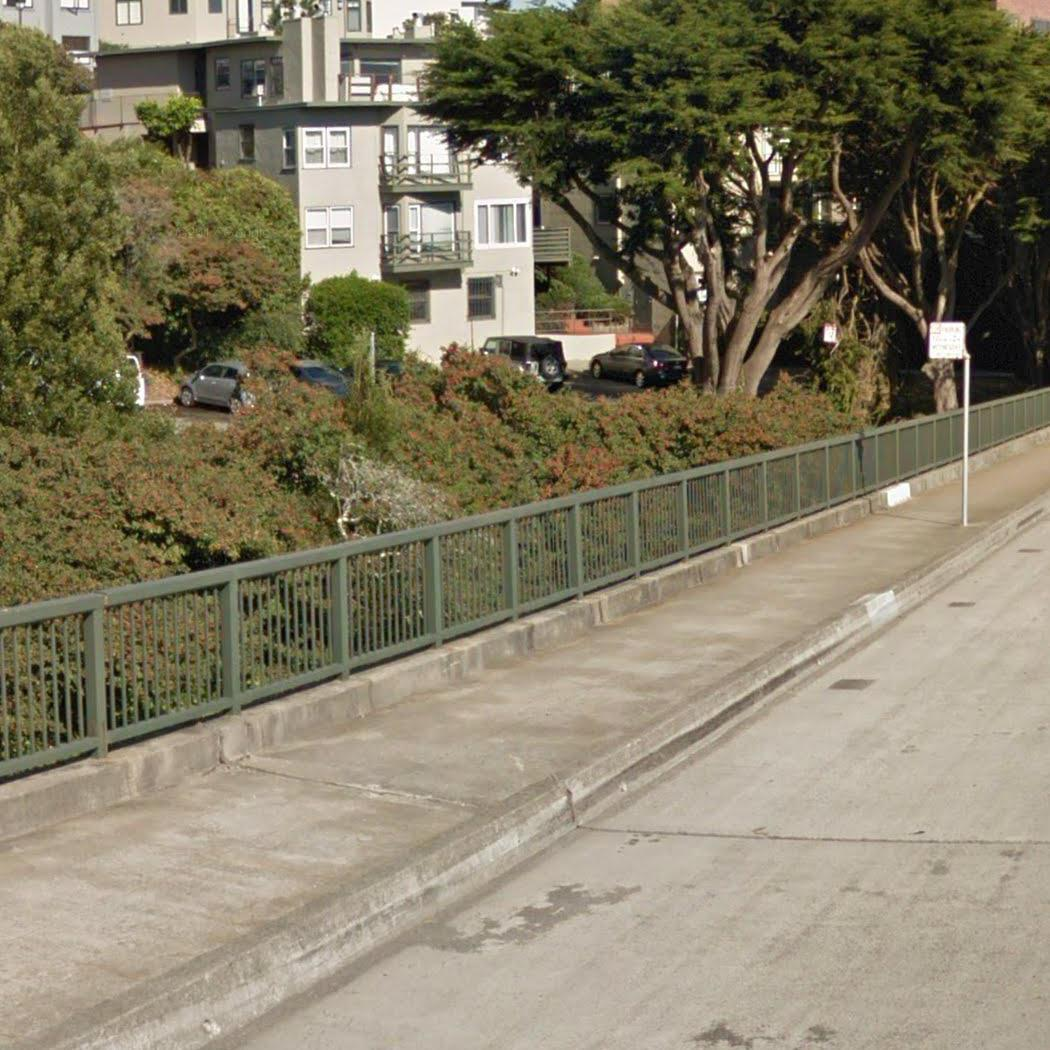No Parking: (926, 320, 968, 361)
